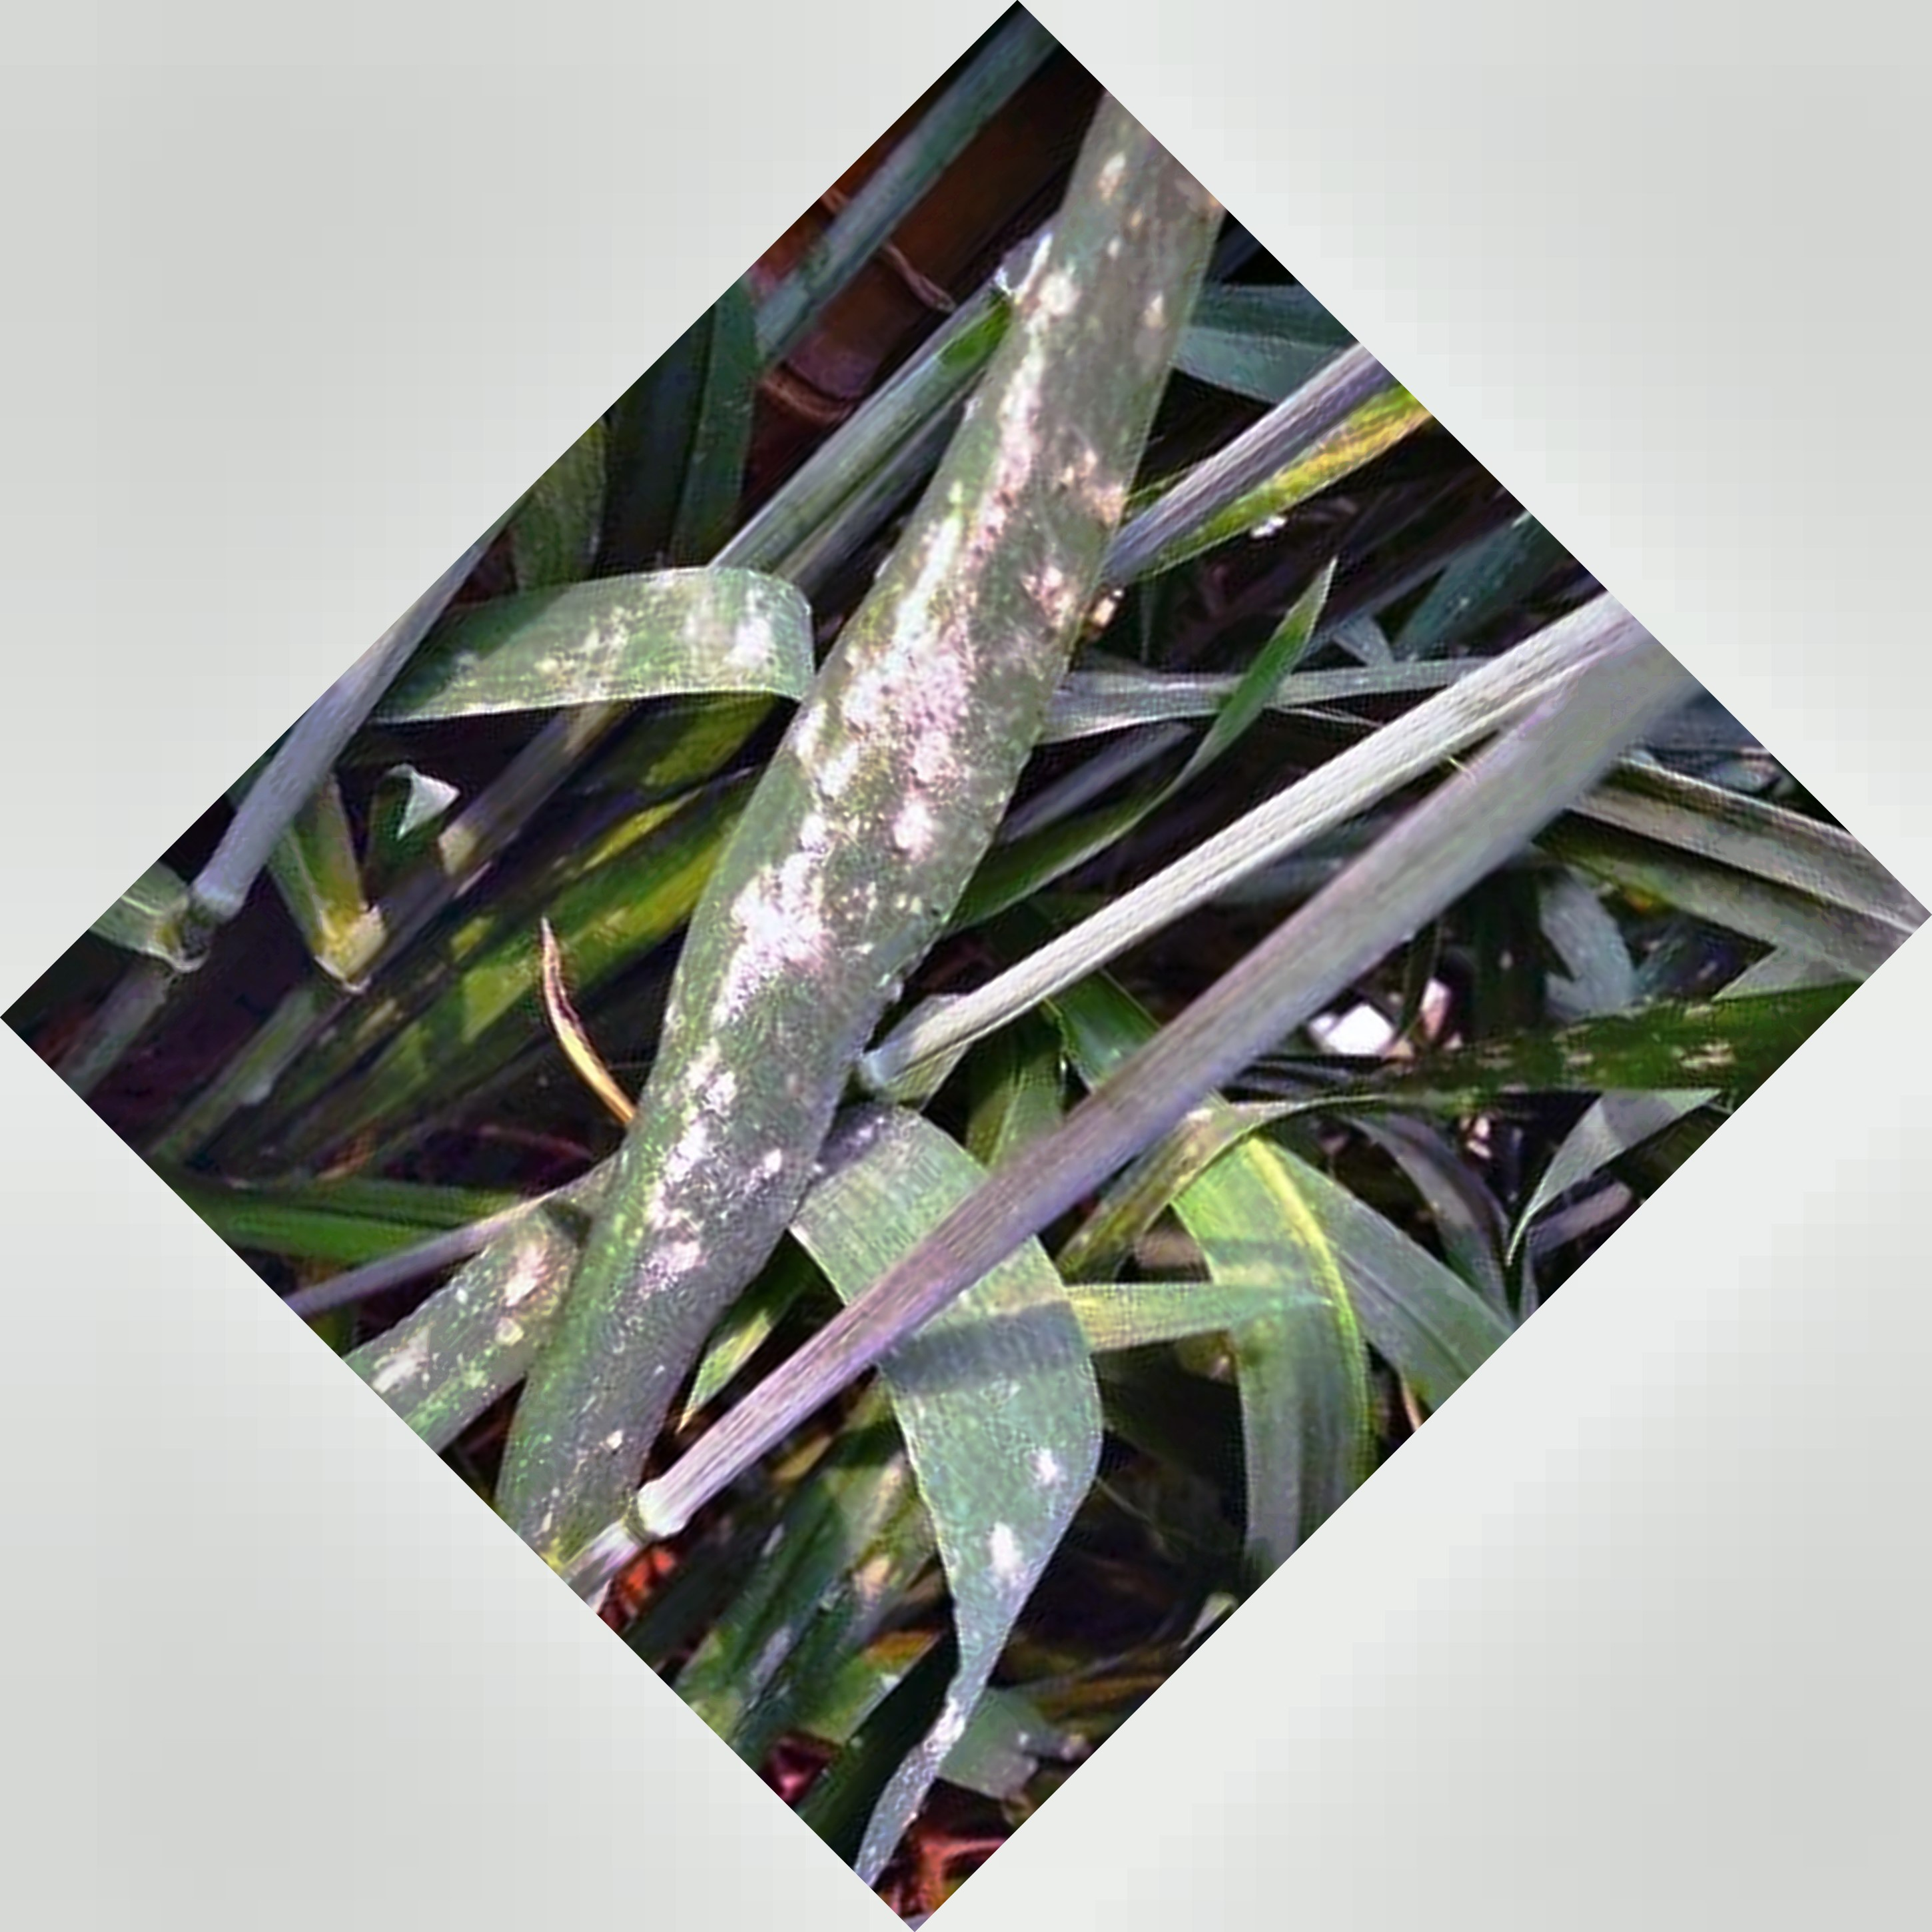Powdery Mildew: (603, 257, 1171, 1330)
